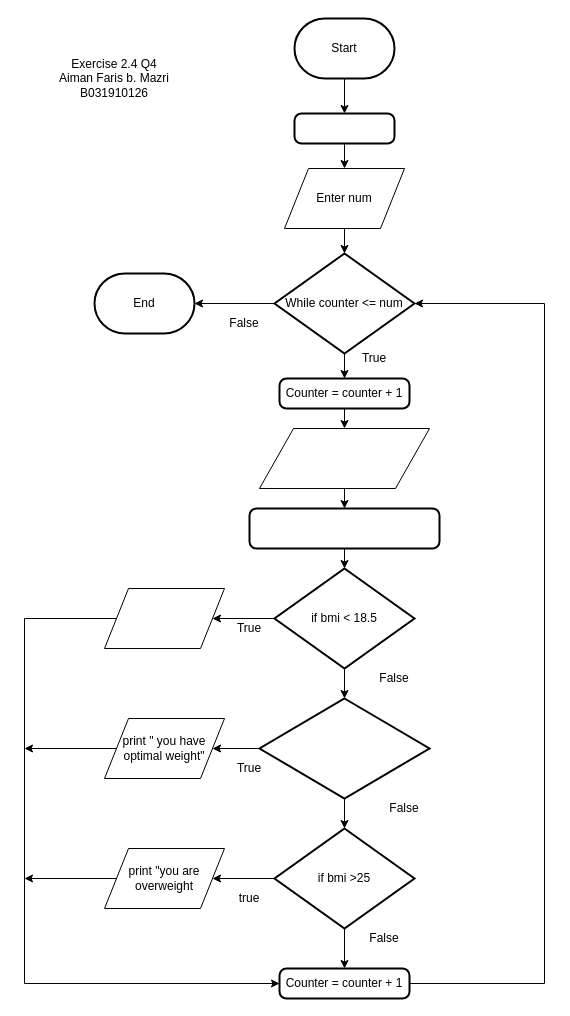
This 570x1016 diagram has some shape labels left out. The centre of each missing label's shape, as x and y in pixels:
bmi = weight / (height *height): point (344, 528)
counter = 1: point (344, 128)
Enter weight and height: point (344, 458)
if bmi >= 18.5 or bmi <= 25: point (344, 748)
print " you are underweight": point (164, 618)
